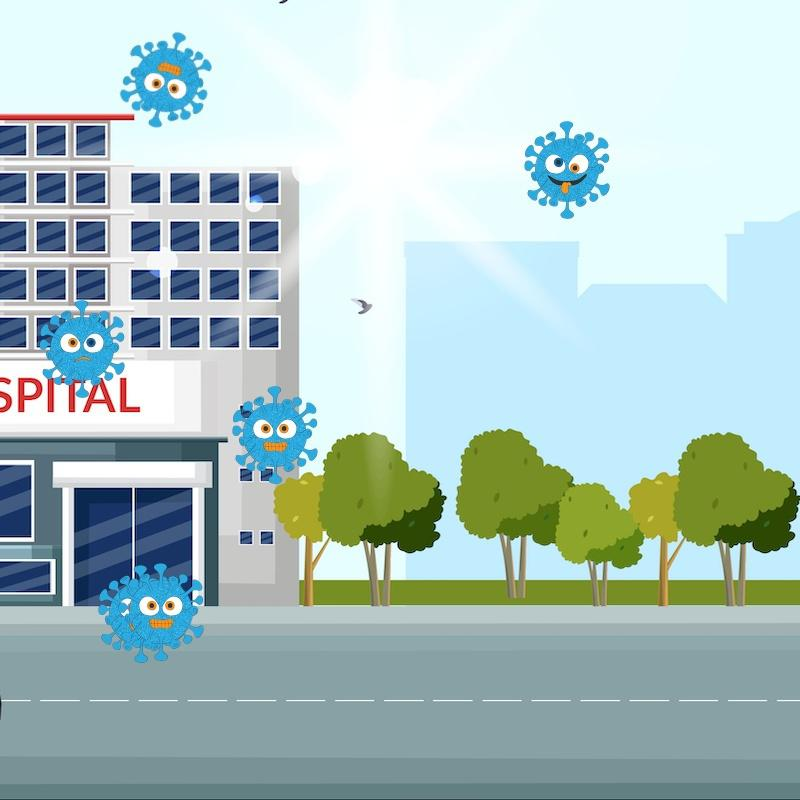corona1: (117, 23, 219, 130), (229, 380, 321, 479), (111, 568, 205, 659)
corona2: (37, 300, 131, 402)
corona3: (511, 118, 609, 221)
